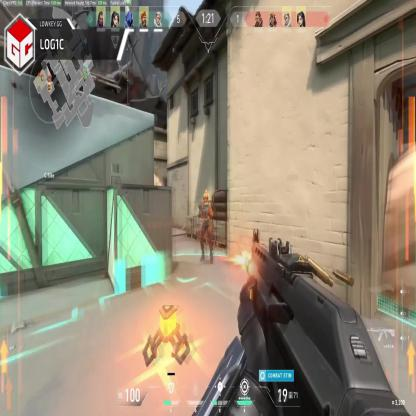enemy: (198, 189, 213, 264)
enemy_head: (202, 190, 210, 205)
